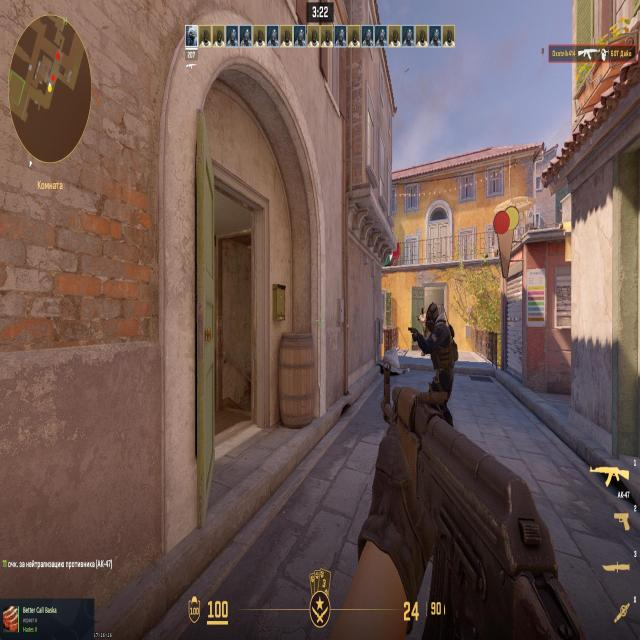CT: (427, 308, 450, 384)
CT_heat: (428, 312, 439, 330)
